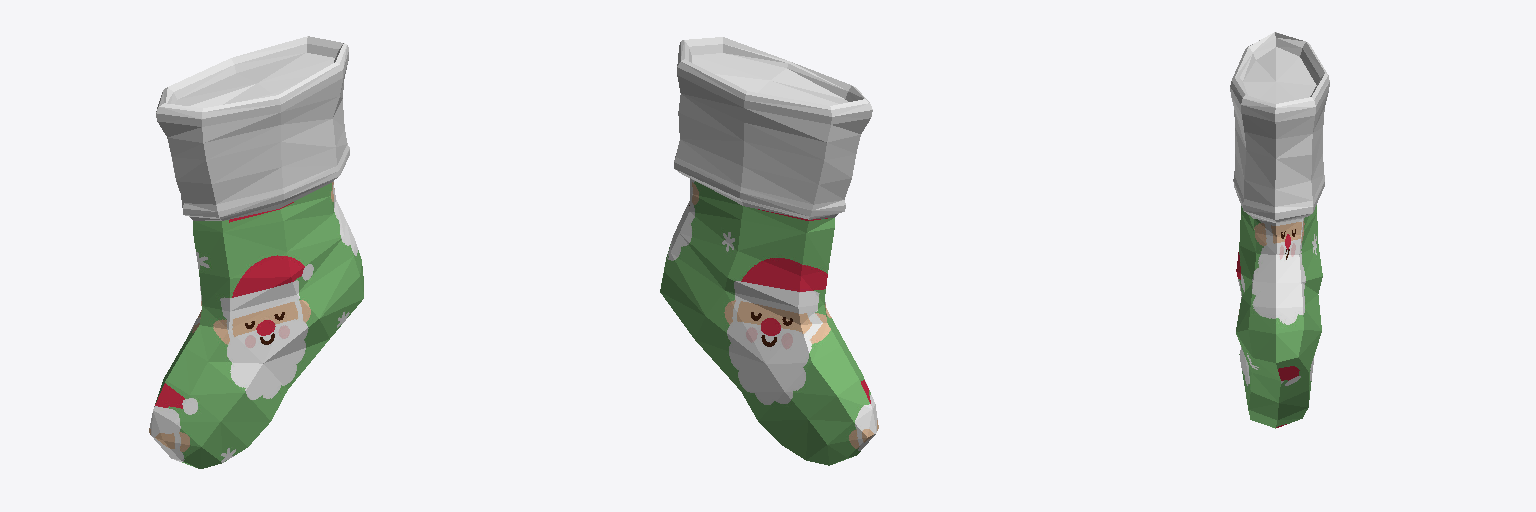
The picture shows the model from 3 angles: view 1: azimuth 30°, elevation 25°; view 2: azimuth 150°, elevation 25°; view 3: azimuth 270°, elevation 25°; orthographic projection.
Visible parts, largest first — view 1: peluche_Noel_Sock_2020.001_peluche_Noel_Sock_2020.010; view 2: peluche_Noel_Sock_2020.001_peluche_Noel_Sock_2020.010; view 3: peluche_Noel_Sock_2020.001_peluche_Noel_Sock_2020.010.
Part boxes in pixels (x1,y1,x2,y2): peluche_Noel_Sock_2020.001_peluche_Noel_Sock_2020.010: (149, 36, 363, 468); peluche_Noel_Sock_2020.001_peluche_Noel_Sock_2020.010: (660, 37, 878, 465); peluche_Noel_Sock_2020.001_peluche_Noel_Sock_2020.010: (1230, 32, 1329, 428).
Size of the model in its own units: 0.1238 by 0.2153 by 0.0502.
2 materials, 2 textured.